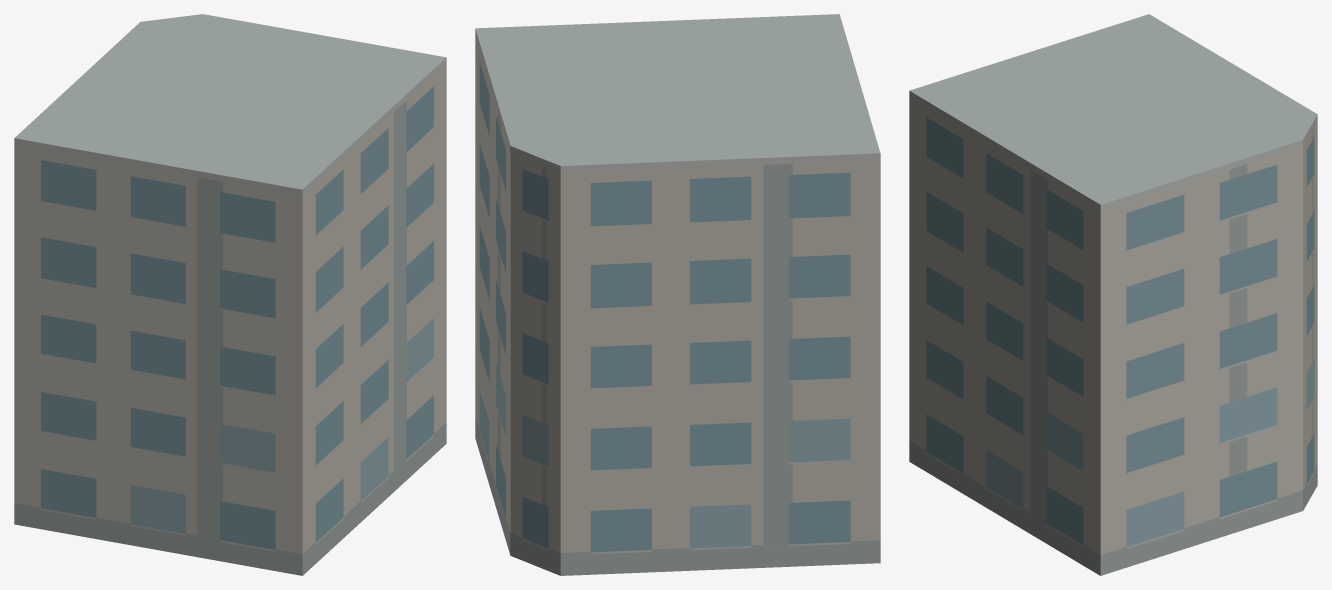
The model's file is survey-upis-32881551.glb.
3 views of the same model, side by side, from view 1: azimuth 30°, elevation 25°; view 2: azimuth 150°, elevation 25°; view 3: azimuth 270°, elevation 25° (orthographic). The views are drawn at different scales.
Visible parts, largest first — view 1: survey-upis-32881551.tmp; view 2: survey-upis-32881551.tmp; view 3: survey-upis-32881551.tmp.
Boxes of the visible parts, bbox=[...] form: survey-upis-32881551.tmp: bbox=[14, 14, 446, 575]; survey-upis-32881551.tmp: bbox=[475, 14, 880, 575]; survey-upis-32881551.tmp: bbox=[909, 14, 1317, 575].
Size of the model in its own units: 15.78 by 14.3 by 14.27.
